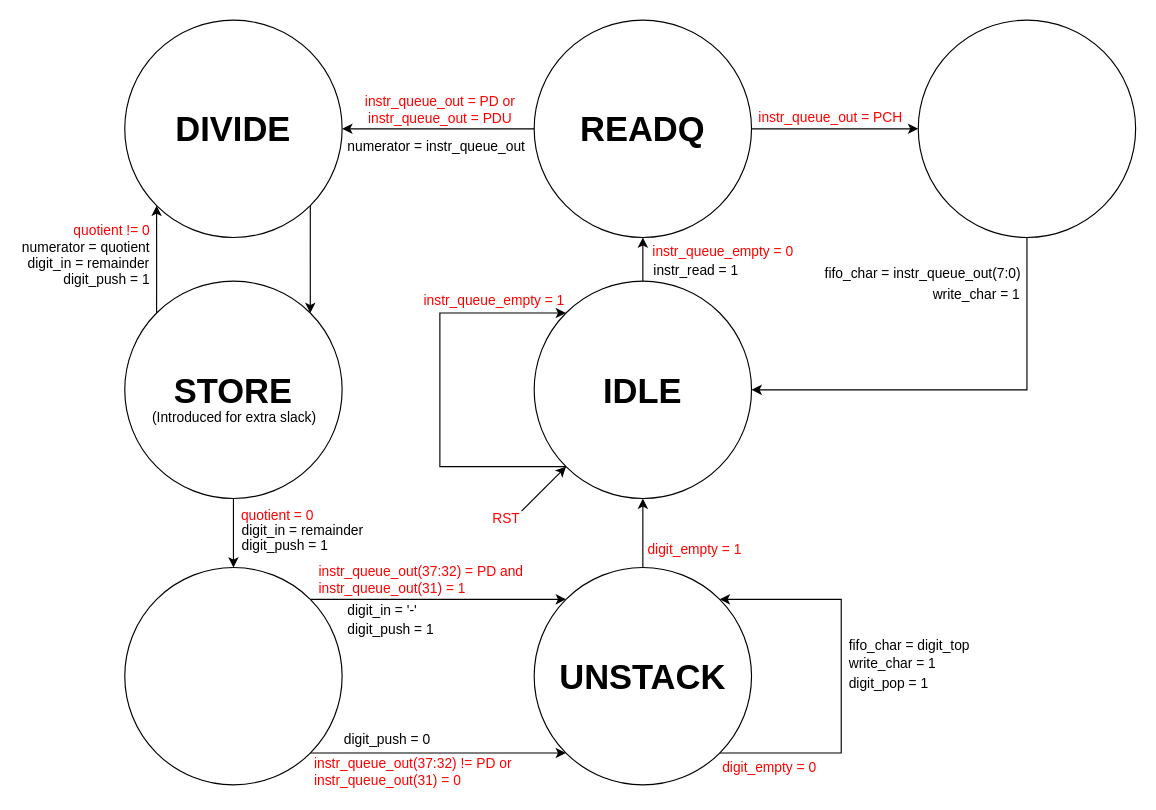
The diagram is 1156 pixels wide and 810 high, and some of its shapes have lost their labels. Each missing label, with the centre of its shape:
NEGATIVE: the point at 233,675
PCHAR: the point at 1026,128
